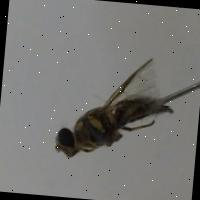Oriental-fruit-fly: (49, 50, 182, 172)
